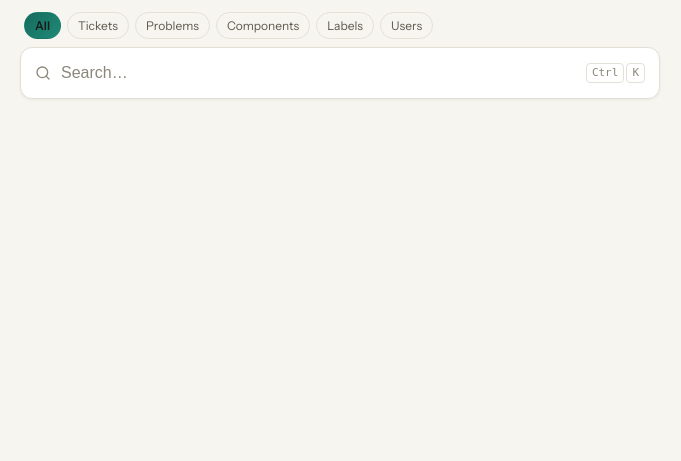
Test case: GlobalSearchBar typeahead › (b) dropdown renders entity-grouped rows from combined
In the search field: coordinates (318, 73) [61,52,576,94], type "Bug"
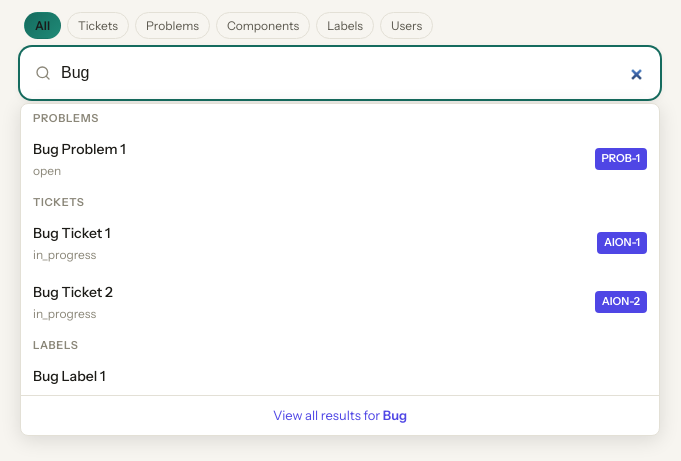
Expected: the text "Bug Problem 1" is shown, [33,140,126,158]
Expected: the text "Bug Ticket 1" is shown, [33,224,110,242]
Expected: the text "Bug Ticket 2" is shown, [33,282,113,300]
